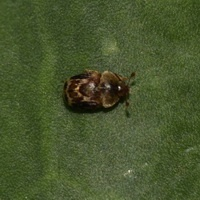insect: (64, 69, 135, 109)
